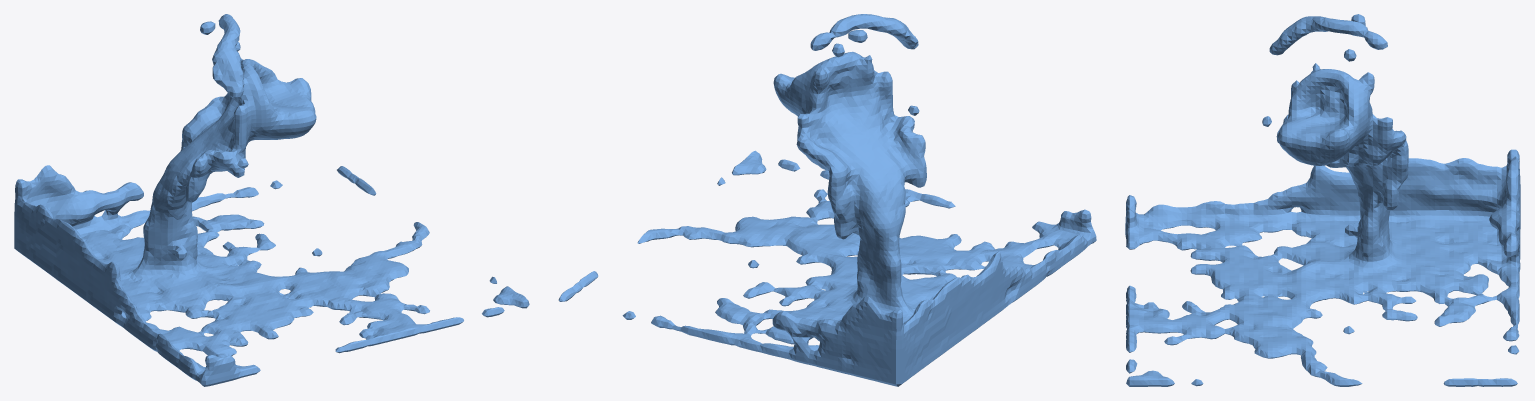
File: water_0051.glb
The picture shows the model from 3 angles, left to right: view 1: azimuth 30°, elevation 25°; view 2: azimuth 150°, elevation 25°; view 3: azimuth 270°, elevation 25°; orthographic projection. The views are drawn at different scales.
Parts seen in each view (by area): view 1: Water_0051; view 2: Water_0051; view 3: Water_0051.
Boxes of the visible parts, x1=… form: Water_0051: x1=14, y1=14, x2=529, y2=386; Water_0051: x1=558, y1=14, x2=1096, y2=386; Water_0051: x1=1125, y1=14, x2=1520, y2=386.
Bounding box in the file's own units: 4.82 × 3.64 × 4.83.
